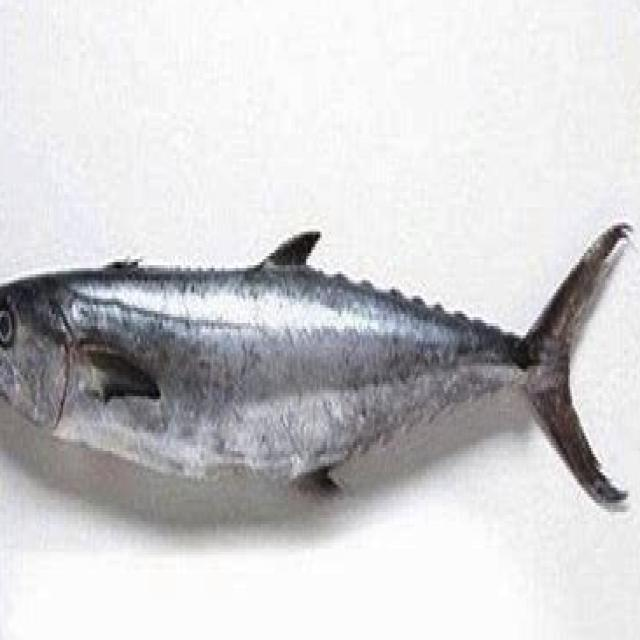seer: (0, 220, 632, 509)
